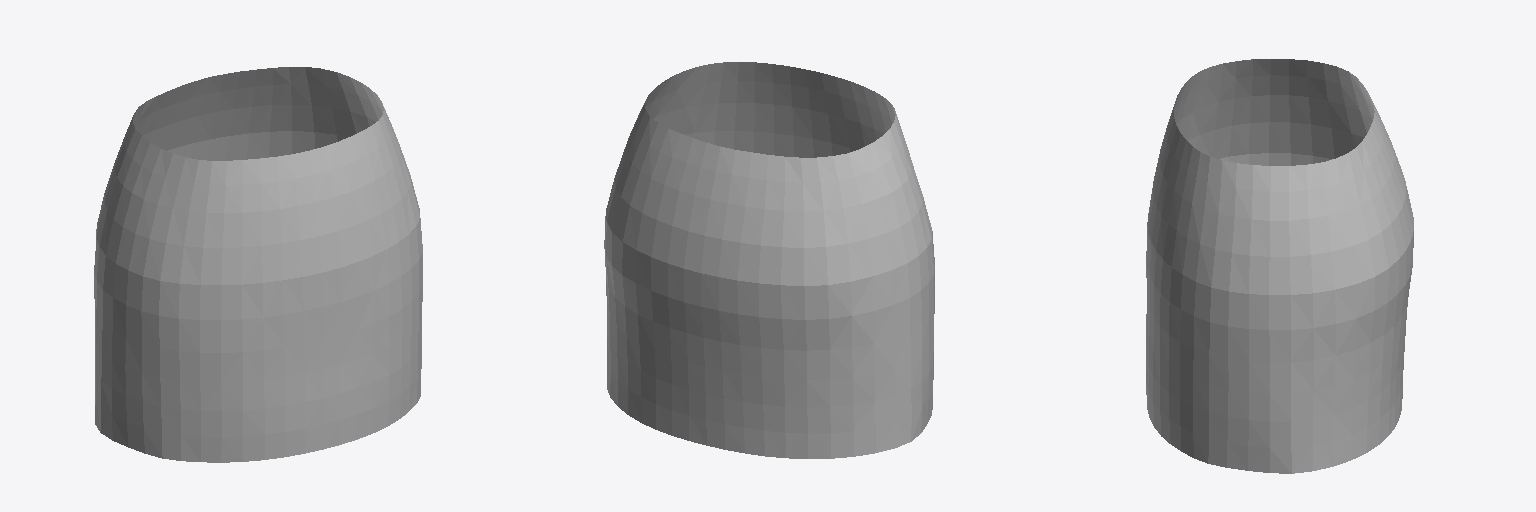
Rendered from 10_skirtshortnarrow.obj.
3 renders of one model, left to right at view 1: azimuth 30°, elevation 25°; view 2: azimuth 150°, elevation 25°; view 3: azimuth 270°, elevation 25°, orthographic.
Visible parts, largest first — view 1: skirtfront, skirtback, skirtbackright, skirtbackleft; view 2: skirtback, skirtbackleft, skirtfront, skirtbackright; view 3: skirtfront, skirtbackright, skirtbackleft, skirtback.
Boxes of the visible parts, x1=… form: skirtfront: x1=101, y1=83, x2=422, y2=462; skirtback: x1=141, y1=68, x2=272, y2=160; skirtbackright: x1=269, y1=67, x2=378, y2=156; skirtbackleft: x1=94, y1=96, x2=156, y2=432; skirtback: x1=636, y1=129, x2=785, y2=457; skirtbackleft: x1=781, y1=143, x2=911, y2=458; skirtfront: x1=645, y1=62, x2=934, y2=441; skirtbackright: x1=604, y1=91, x2=668, y2=422; skirtfront: x1=1146, y1=59, x2=1291, y2=473; skirtbackright: x1=1289, y1=141, x2=1398, y2=473; skirtbackleft: x1=1289, y1=59, x2=1374, y2=165; skirtback: x1=1363, y1=85, x2=1413, y2=434.
Size of the model in its own units: 14.45 by 13.4 by 11.24.